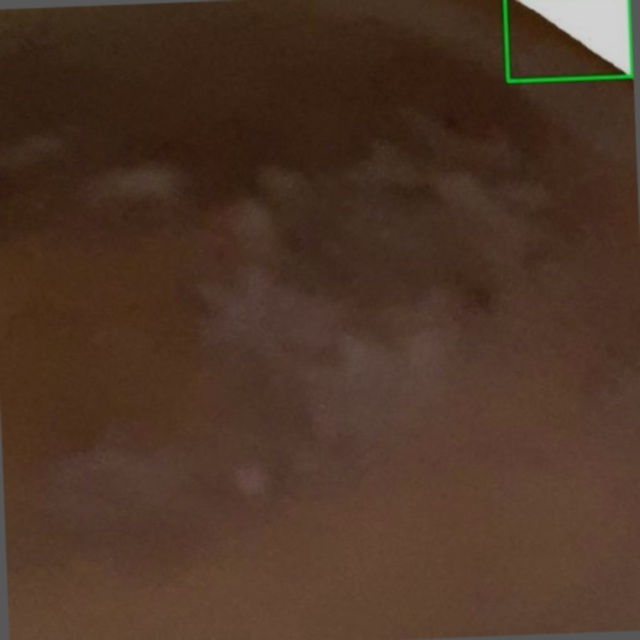Eczema: (505, 0, 632, 81)
